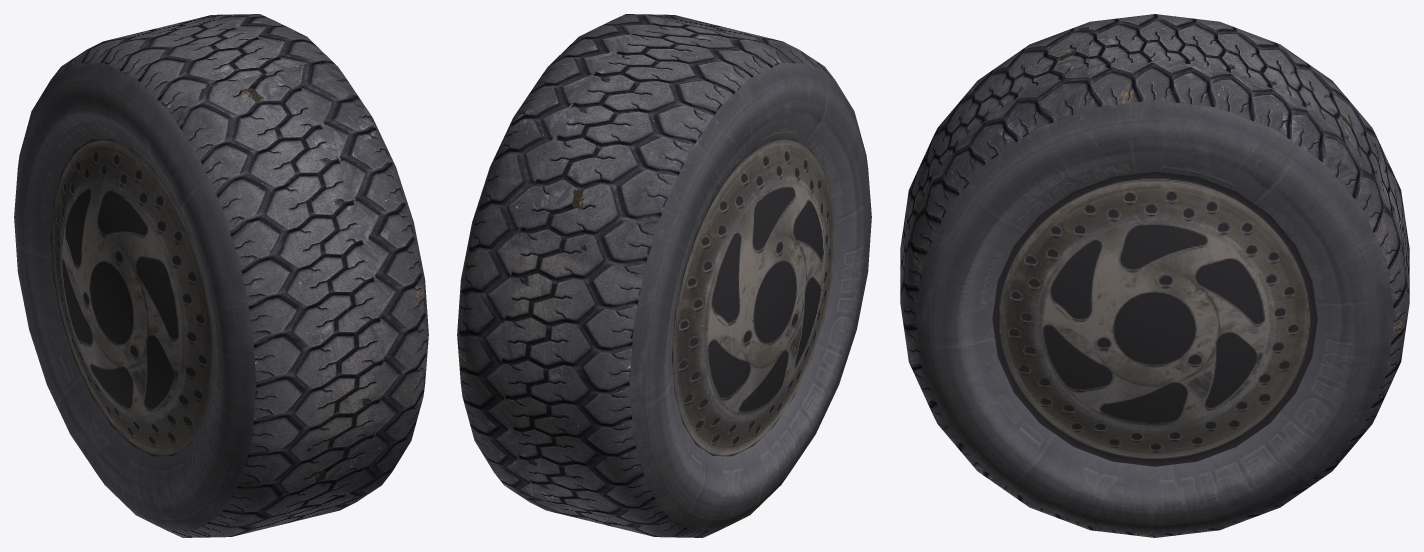
File: enemigo1_rueda.dae
The picture shows the model from 3 angles, left to right: view 1: azimuth 30°, elevation 25°; view 2: azimuth 150°, elevation 25°; view 3: azimuth 270°, elevation 25°; orthographic projection.
Visible parts, largest first — view 1: enemigo1_rueda; view 2: enemigo1_rueda; view 3: enemigo1_rueda.
Part boxes in pixels (x1,y1,x2,y2): enemigo1_rueda: (14,14,428,537); enemigo1_rueda: (457,14,871,537); enemigo1_rueda: (900,14,1409,537).
Size of the model in its own units: 4.18 by 8.27 by 8.27.
1 material, 1 textured.
